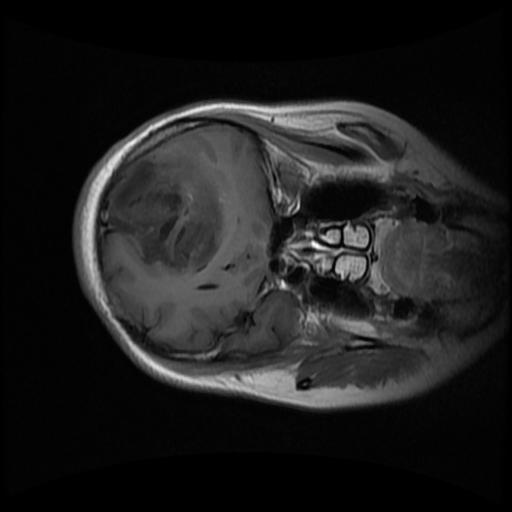glioma: (101, 161, 221, 273)
